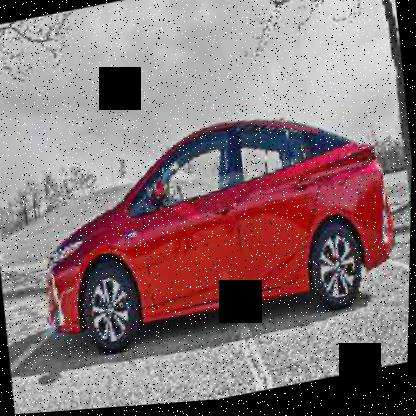not_emergency: (14, 83, 413, 399)
